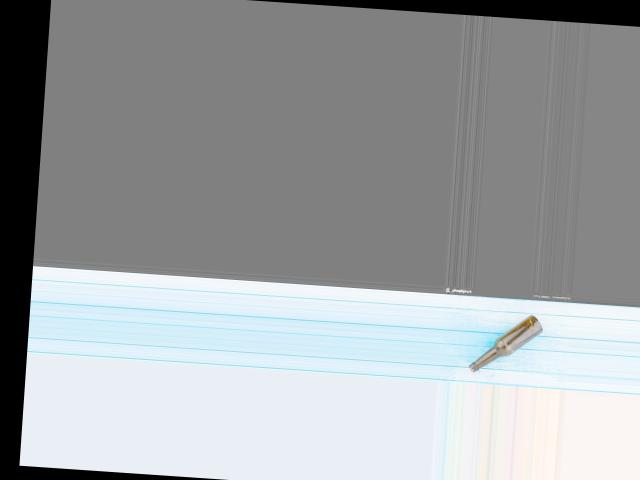beer: (469, 309, 544, 377)
